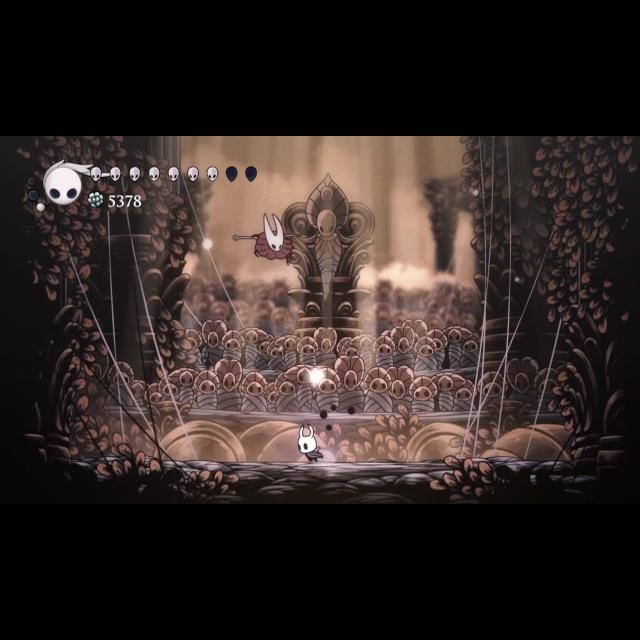EnemyLeadIn: (230, 212, 312, 270)
Player: (296, 418, 326, 466)
